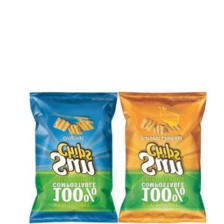snack: (115, 88, 213, 224), (24, 87, 121, 223)
